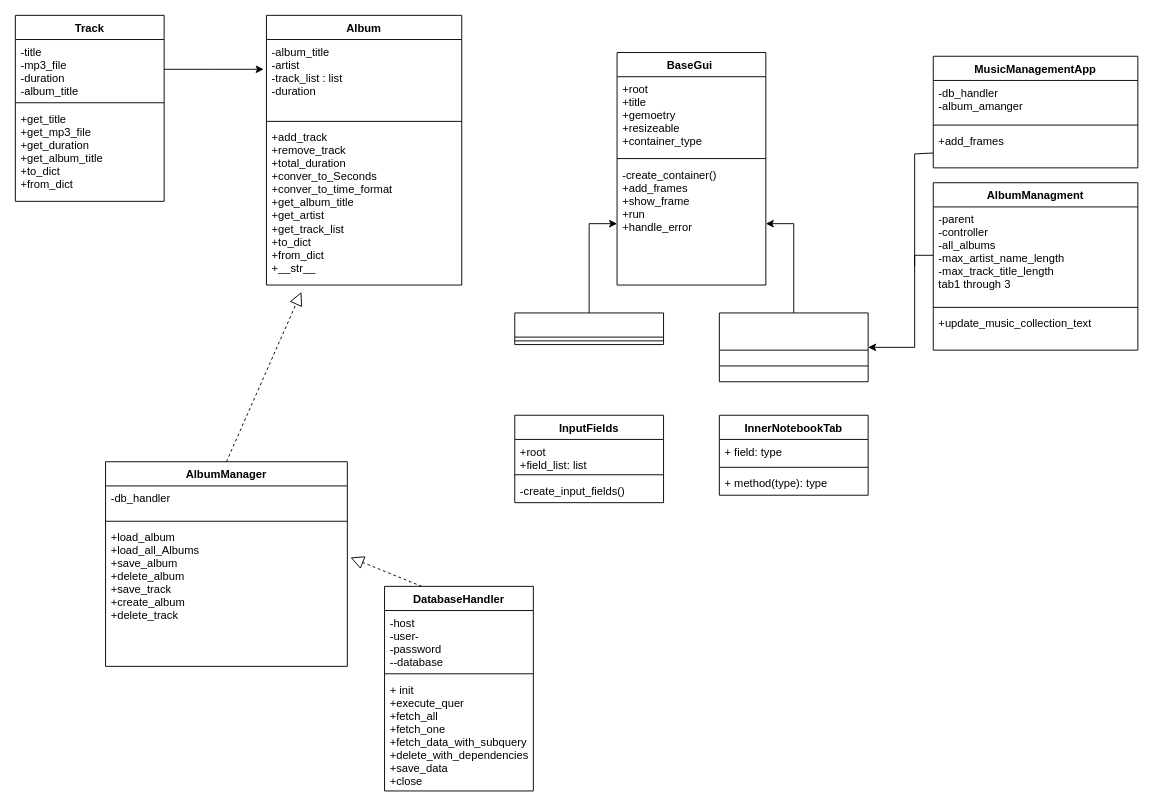
This 1153x806 diagram has some shape labels left out. The shapes that lost their labels are listed below. From the top down, each one's centre as x and y in pixels, then its label:
At [589,328]: "FrameBasedGui".
At [793,347]: "NoteBook BasedGui".
